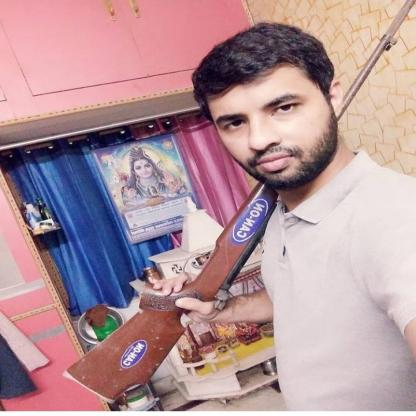rifle: (58, 0, 415, 406)
